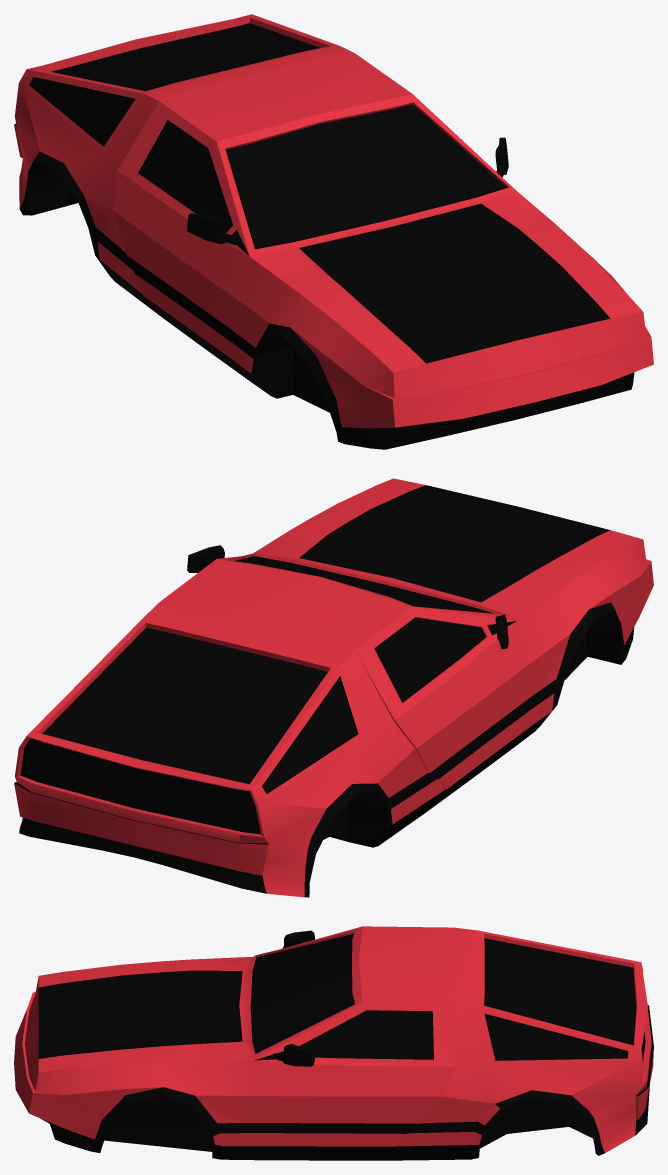
File: TestCarBody.fbx
3 renders of one model, top to bottom at view 1: azimuth 30°, elevation 25°; view 2: azimuth 150°, elevation 25°; view 3: azimuth 270°, elevation 25°, orthographic. The views are drawn at different scales.
Visible parts, largest first — view 1: Body; view 2: Body; view 3: Body.
Boxes of the visible parts, x1,y1,x2,y2 form: Body: (14,14,653,449); Body: (14,478,653,897); Body: (14,926,653,1160).
Bounding box in the file's own units: 178 × 99.22 × 386.
